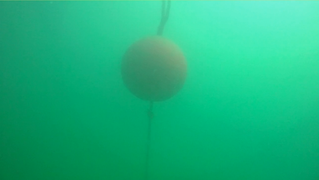buoy: (120, 36, 187, 102)
